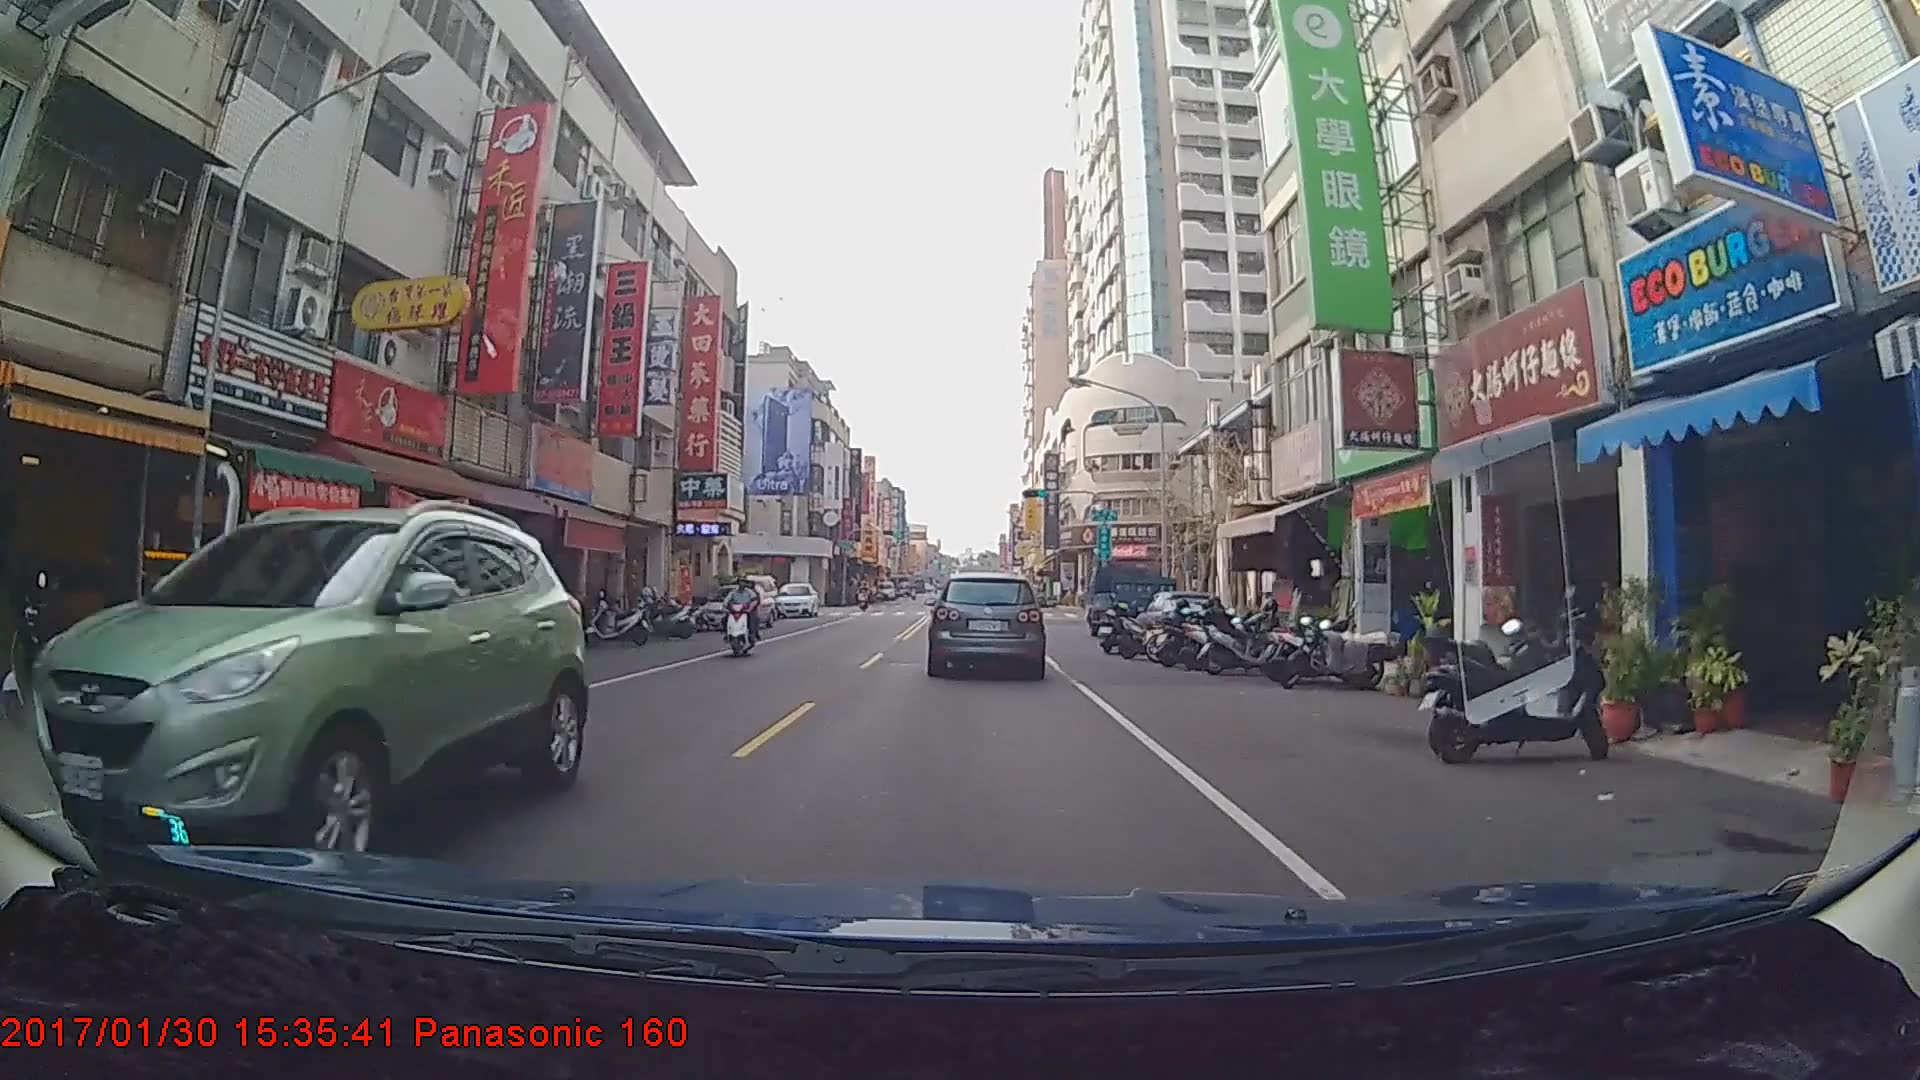rider: (720, 573, 770, 661)
vehicle: (25, 503, 591, 888), (928, 572, 1044, 677), (1084, 563, 1181, 640), (699, 584, 778, 634), (772, 584, 819, 623)
